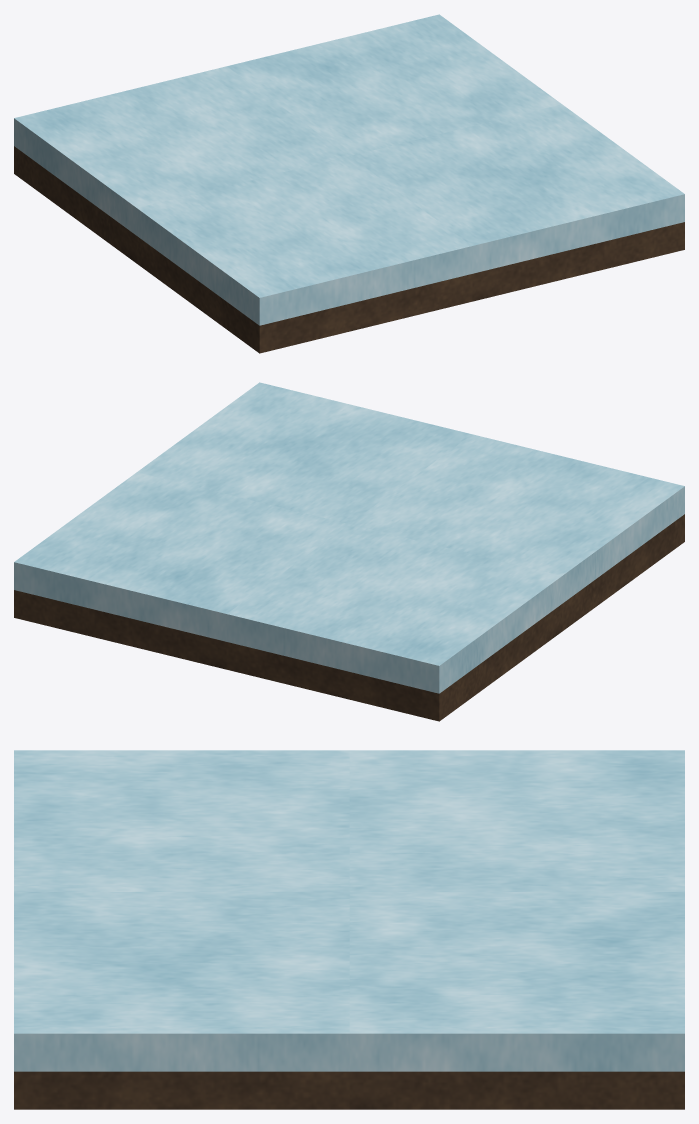
File: ground_water.glb
3 renders of one model, top to bottom at view 1: azimuth 30°, elevation 25°; view 2: azimuth 150°, elevation 25°; view 3: azimuth 270°, elevation 25°, orthographic. The views are drawn at different scales.
Visible parts, largest first — view 1: wilds_tiles_ground_water; view 2: wilds_tiles_ground_water; view 3: wilds_tiles_ground_water.
Part boxes in pixels (box(x1,y1,x2,y2)): wilds_tiles_ground_water: box(14, 14, 684, 353); wilds_tiles_ground_water: box(14, 382, 684, 721); wilds_tiles_ground_water: box(14, 750, 684, 1109).
Size of the model in its own units: 1 by 0.125 by 1.
Materials: 1 (1 with a texture image).
